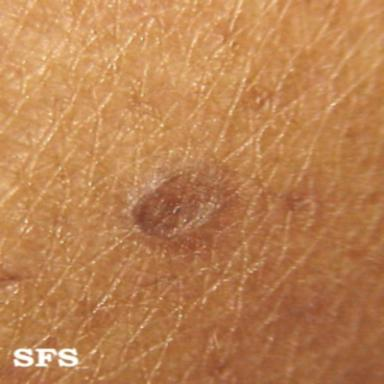Porokeratosis: (133, 166, 236, 239)
